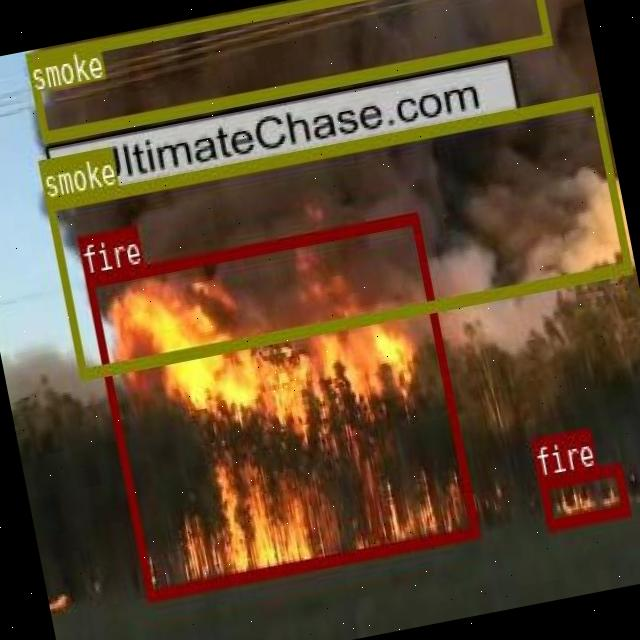fire: (85, 213, 478, 599), (537, 462, 630, 530)
smoke: (44, 91, 630, 377), (25, 0, 550, 139)
